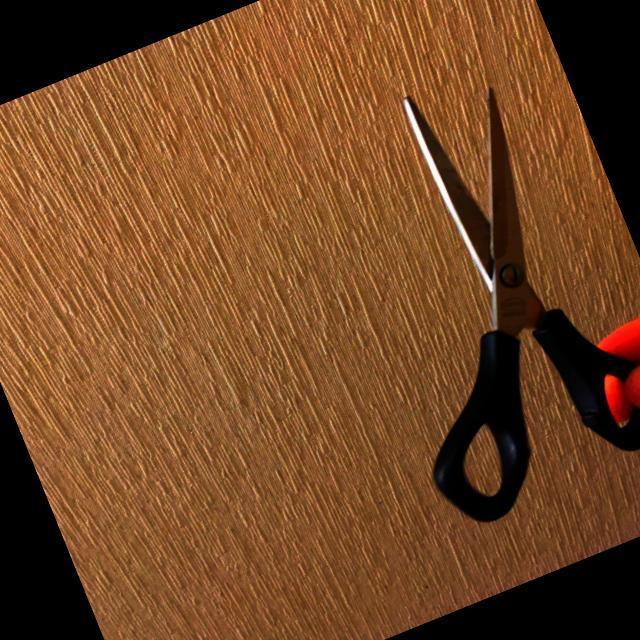scissors: (296, 54, 640, 535)
